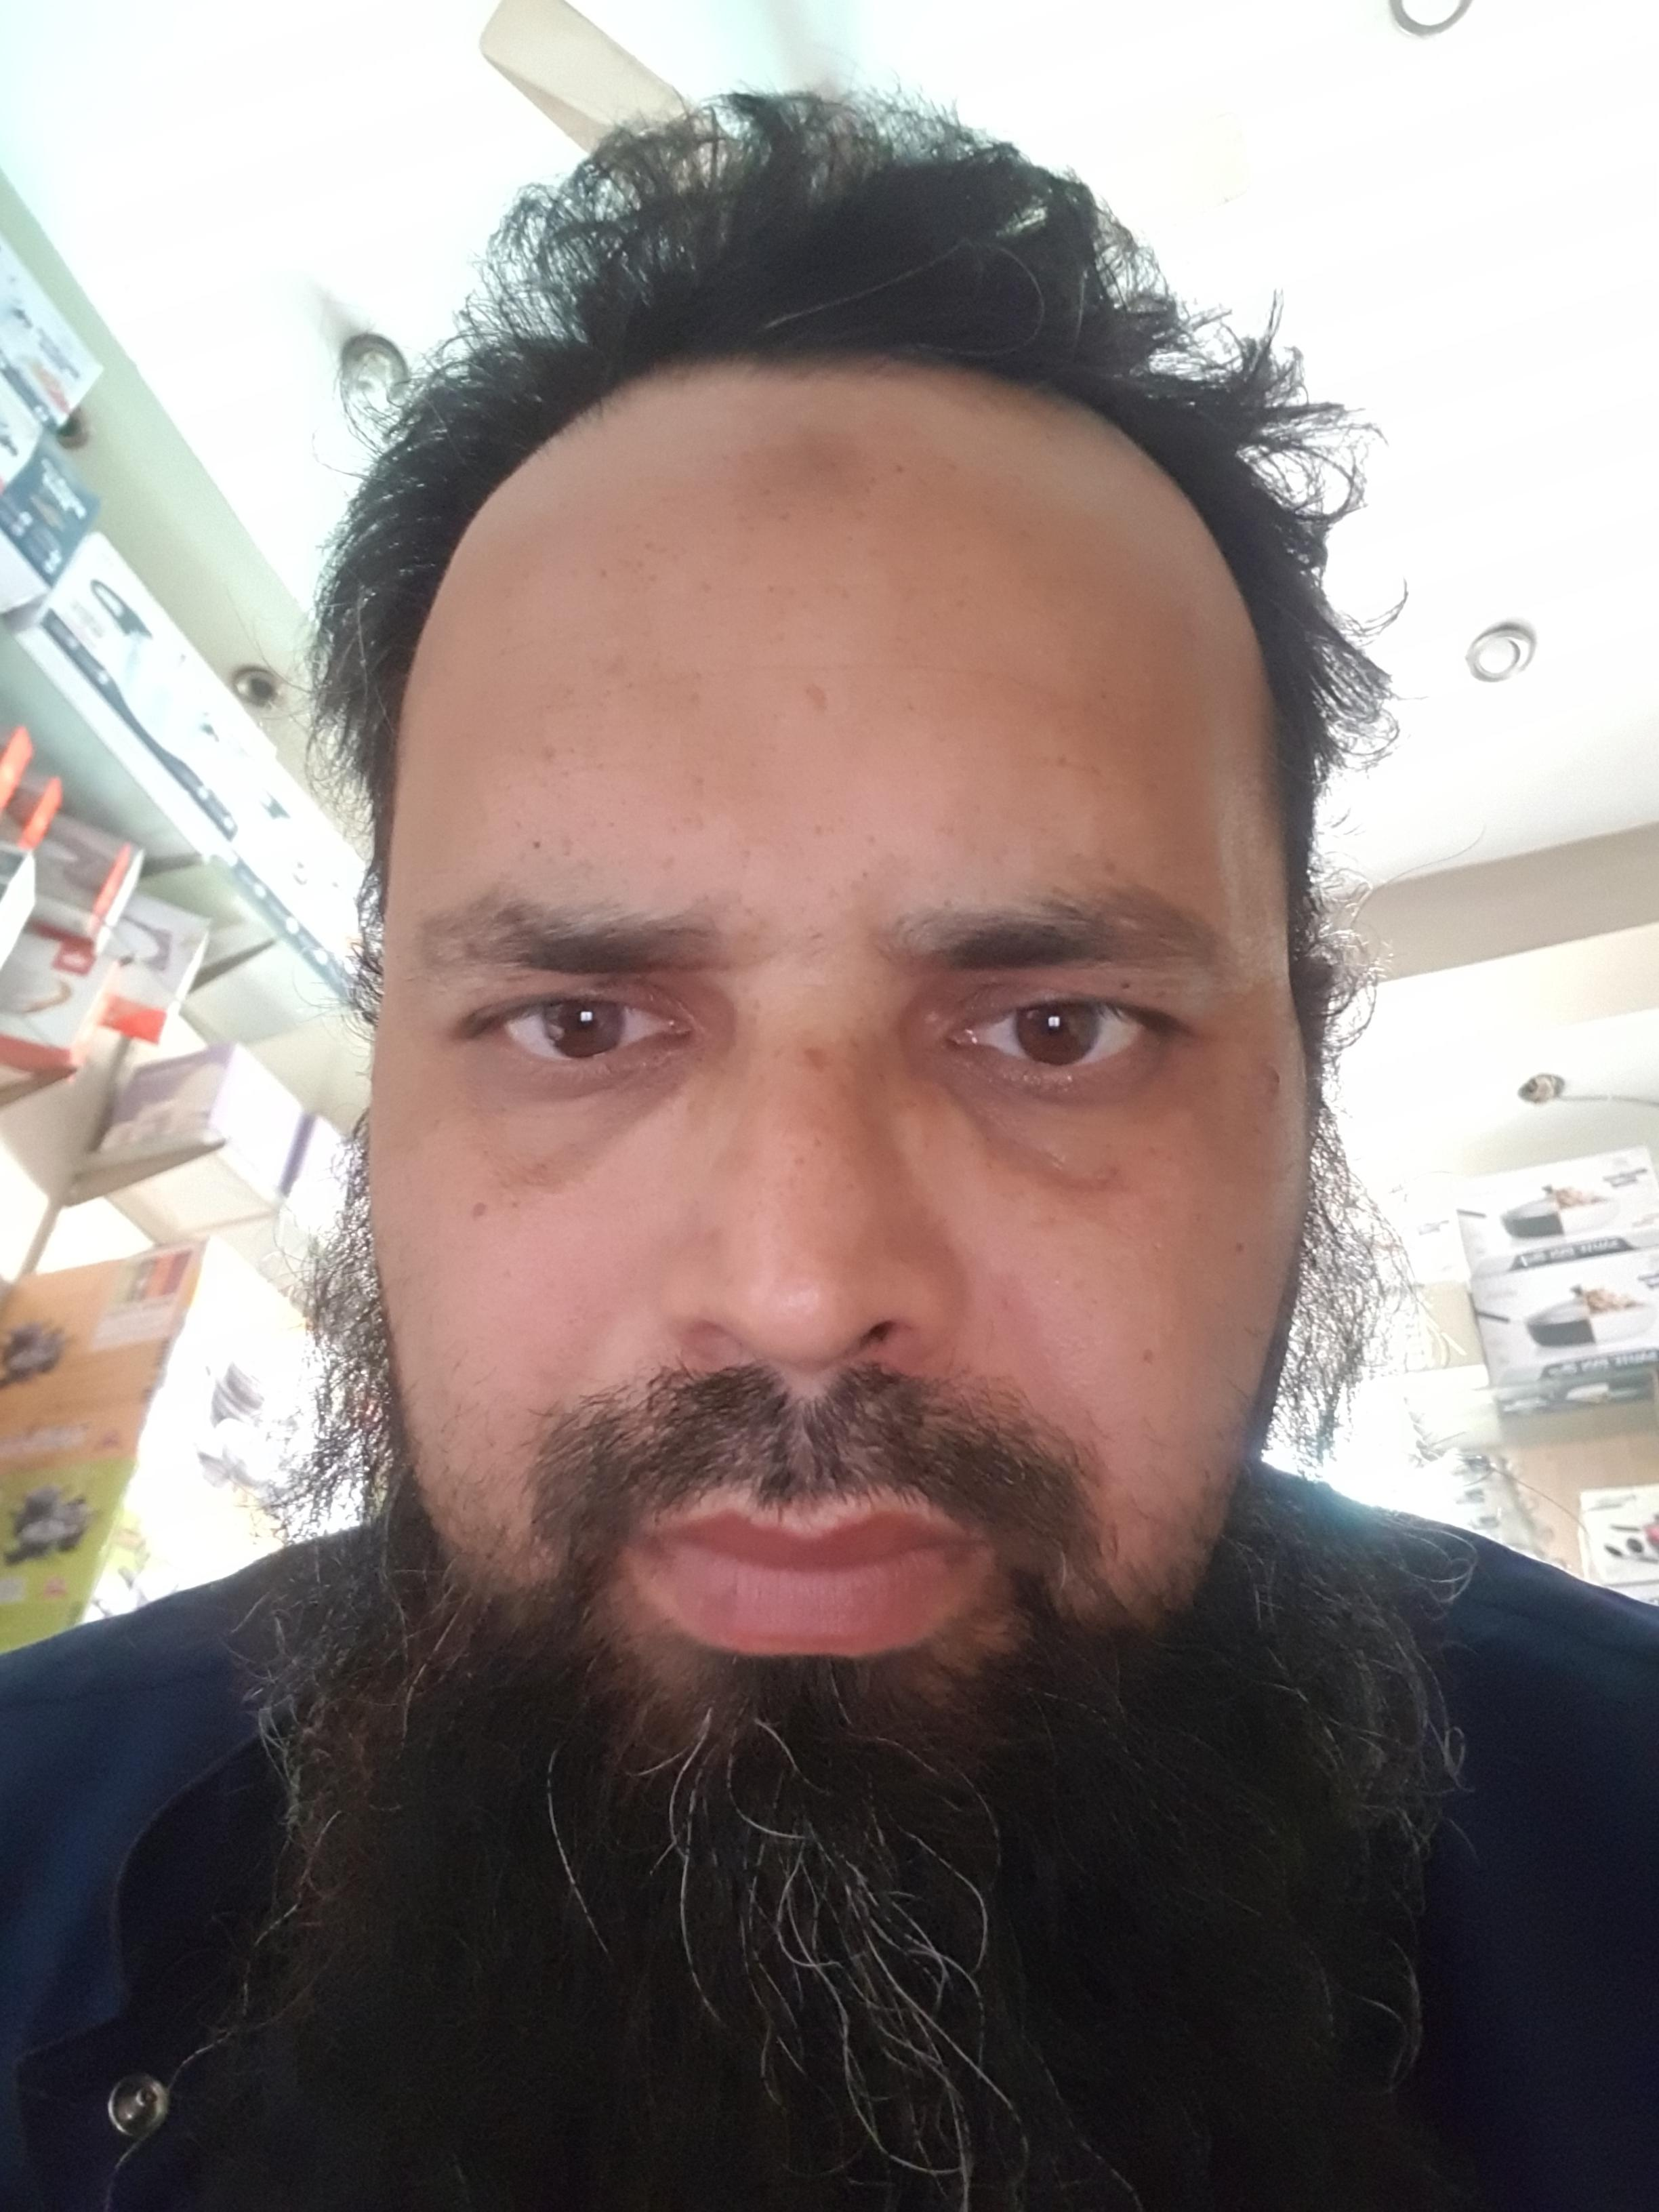Englarged-Pores: (990, 1130, 1127, 1221), (477, 1148, 545, 1207)
Eyebags: (443, 1008, 737, 1184), (911, 1022, 1190, 1184)
Wrinkles: (542, 655, 1046, 698), (477, 751, 723, 775), (875, 752, 1119, 775), (638, 578, 948, 596), (484, 620, 577, 658)
